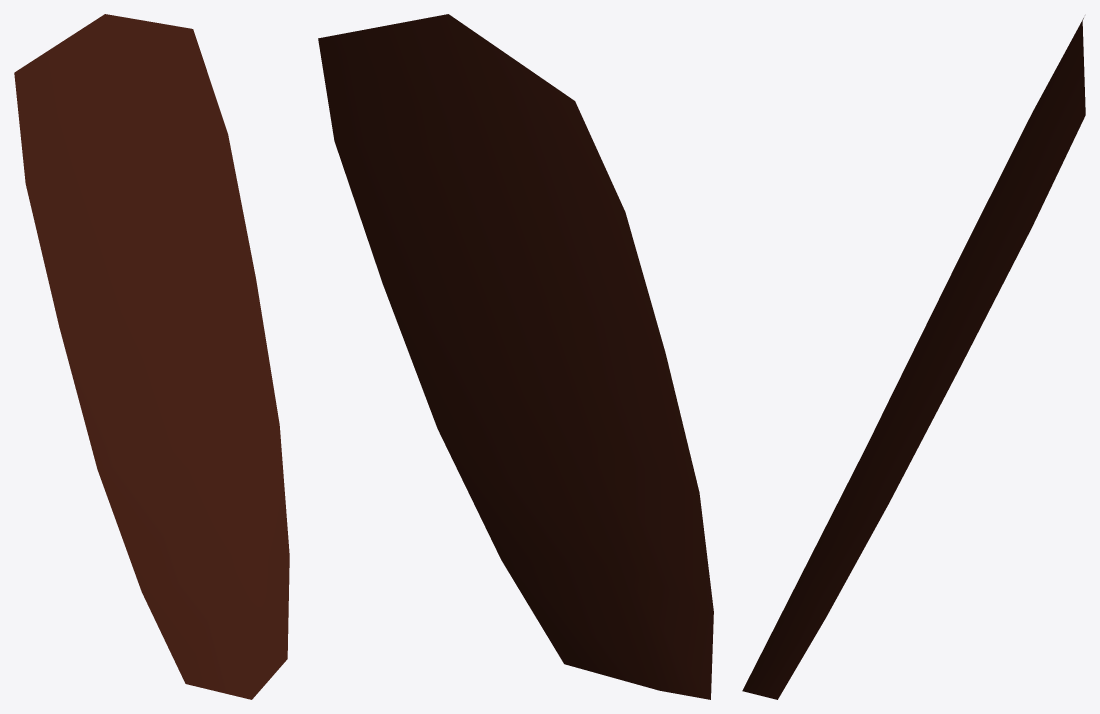
The model's file is hen_feather_tail_secondary_007.obj.
3 renders of one model, left to right at view 1: azimuth 30°, elevation 25°; view 2: azimuth 150°, elevation 25°; view 3: azimuth 270°, elevation 25°, orthographic. The views are drawn at different scales.
Visible parts, largest first — view 1: feather_tail_secondary_007; view 2: feather_tail_secondary_007; view 3: feather_tail_secondary_007.
Part boxes in pixels (box(x1,y1,x2,y2)): feather_tail_secondary_007: box(14, 14, 289, 699); feather_tail_secondary_007: box(318, 14, 713, 699); feather_tail_secondary_007: box(742, 18, 1085, 699).
Bounding box in the file's own units: 0.0282 × 0.0769 × 0.0357.
